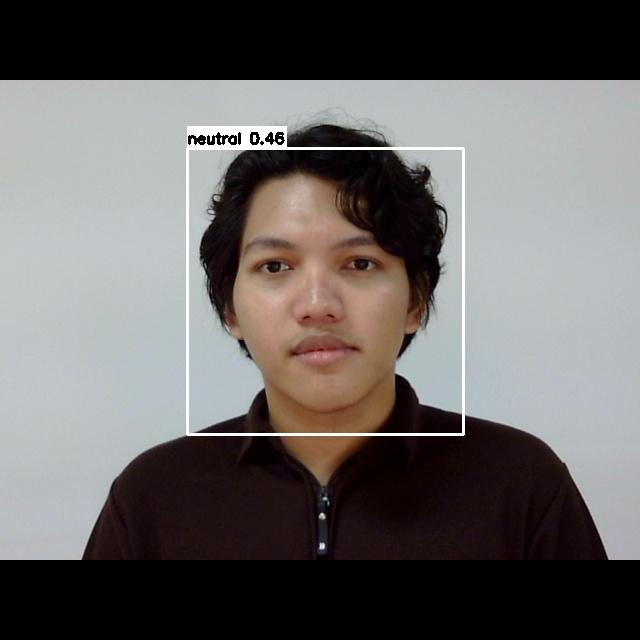Natural: (238, 213, 406, 373)
